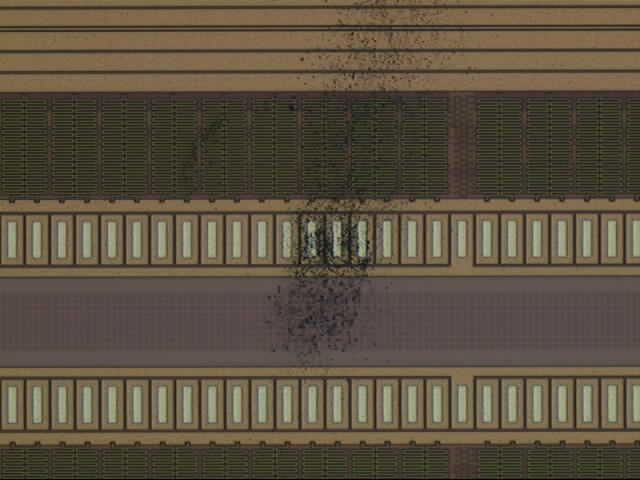PO CONTAMINATION: (168, 1, 490, 385)
